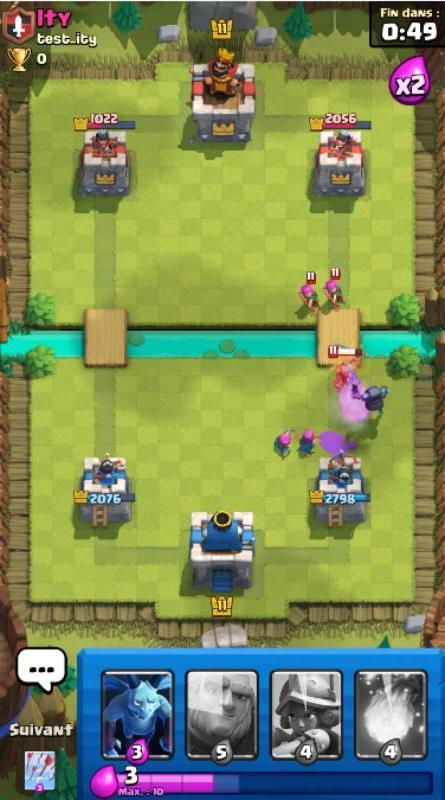enemy_archers: (295, 272, 321, 312), (321, 268, 347, 306)
player_archers: (294, 424, 321, 457), (269, 425, 295, 458)
player_mini_pekka: (349, 377, 392, 417)
